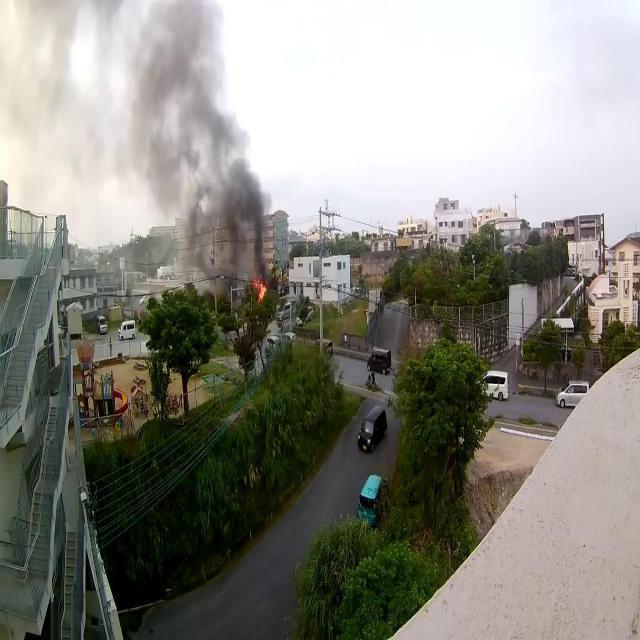Fire: (256, 280, 268, 302)
